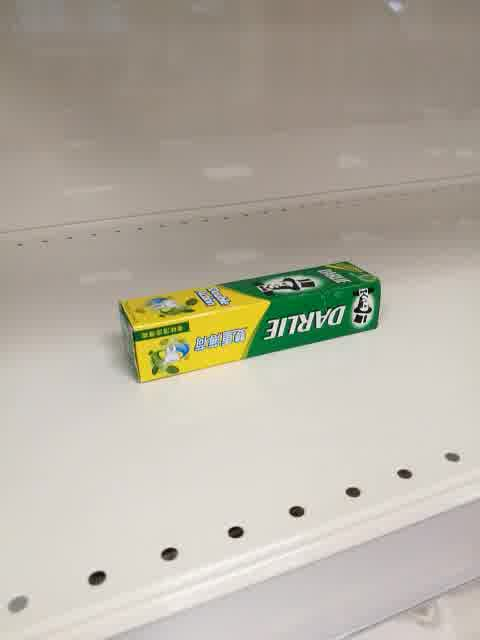toothpaste: (117, 259, 382, 383)
